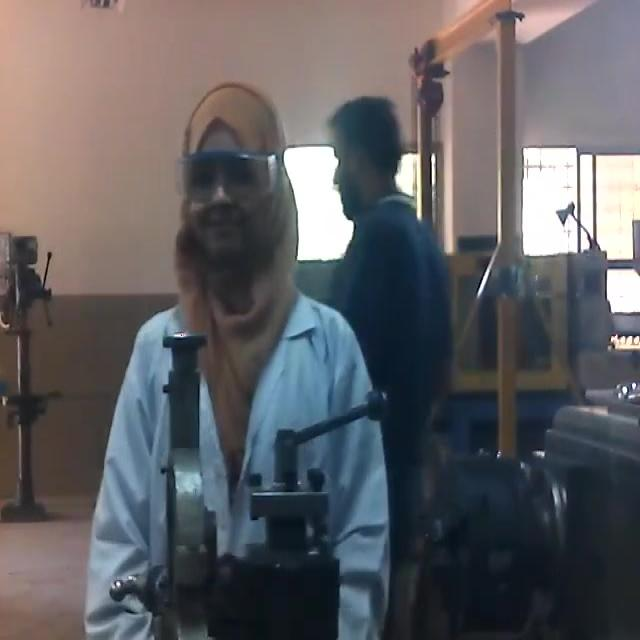googles: (175, 142, 280, 210)
labcoat: (84, 270, 396, 640)
